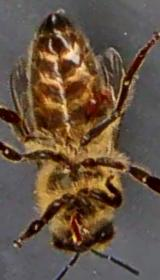varroa_mite: (84, 86, 113, 119)
